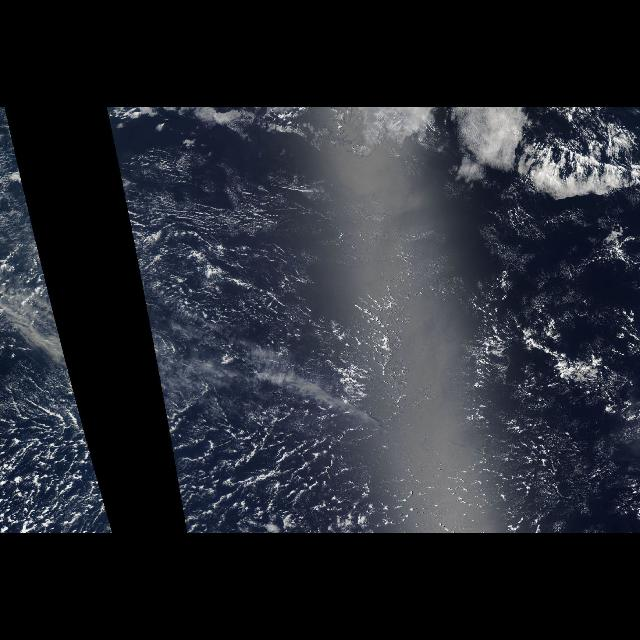Gravel: (162, 402, 390, 532), (0, 409, 104, 499)
Sugar: (121, 136, 469, 358)
